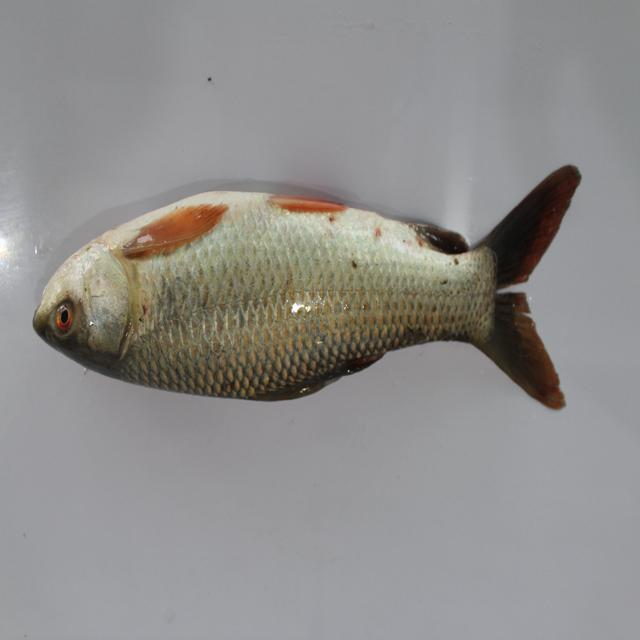Rohu: (31, 173, 579, 424)
